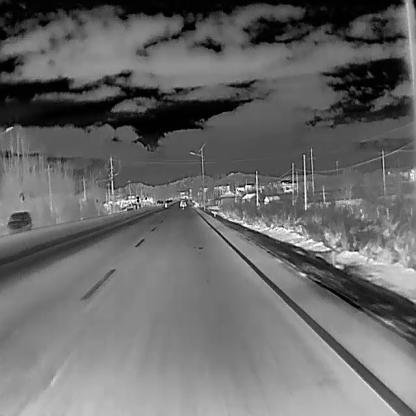car: (5, 210, 32, 233), (179, 200, 186, 207), (156, 199, 160, 206), (160, 199, 163, 204)
